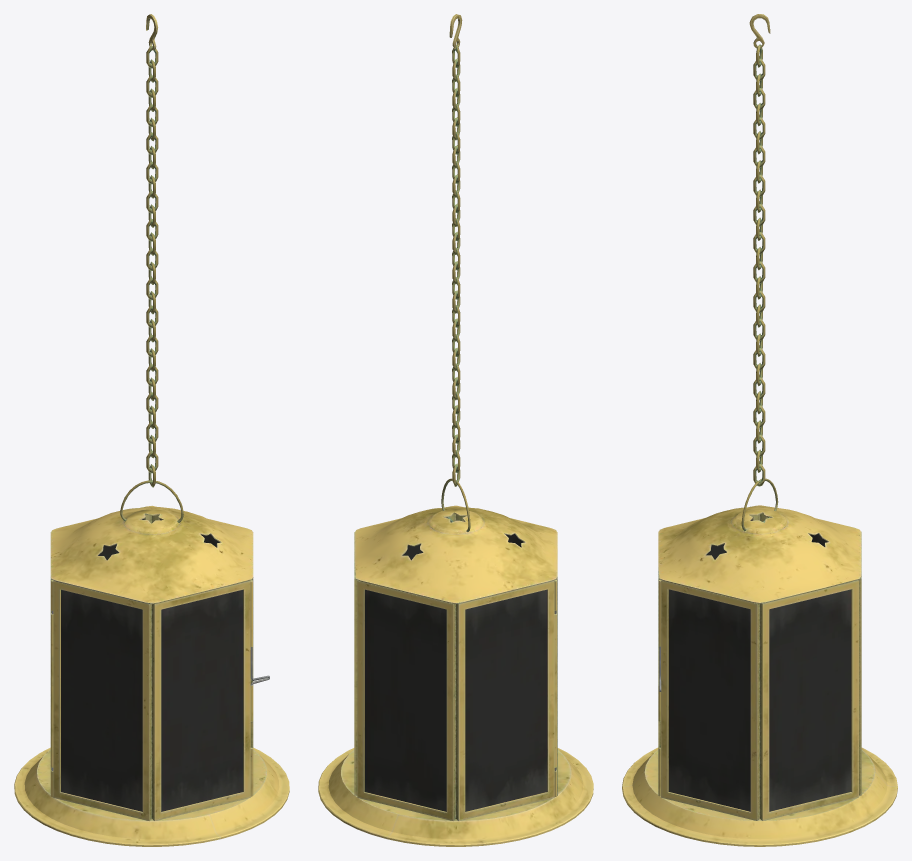
Rendered from brass_diya_lantern.glb.
3 views of the same model, side by side, from view 1: azimuth 30°, elevation 25°; view 2: azimuth 150°, elevation 25°; view 3: azimuth 270°, elevation 25° (orthographic).
Visible parts, largest first — view 1: brass_diya_lantern, brass_diya_lantern_chain; view 2: brass_diya_lantern, brass_diya_lantern_chain; view 3: brass_diya_lantern, brass_diya_lantern_chain.
Boxes of the visible parts, box(x1,y1,x2,y2) form: brass_diya_lantern: box(14, 505, 289, 846); brass_diya_lantern_chain: box(146, 14, 158, 487); brass_diya_lantern: box(318, 505, 593, 846); brass_diya_lantern_chain: box(449, 14, 462, 486); brass_diya_lantern: box(622, 505, 897, 846); brass_diya_lantern_chain: box(749, 14, 770, 486).
Bounding box in the file's own units: 0.123 × 0.3807 × 0.123.
3 materials, 3 textured.
